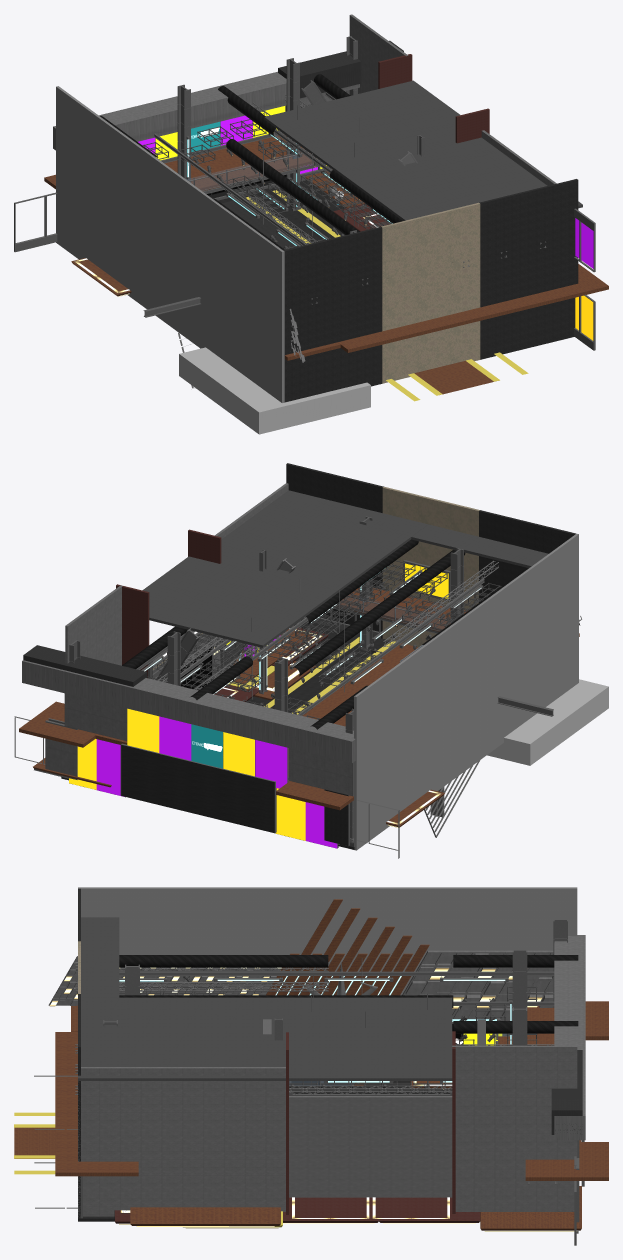
File: studio_v2.gltf
3 renders of one model, top to bottom at view 1: azimuth 30°, elevation 25°; view 2: azimuth 150°, elevation 25°; view 3: azimuth 270°, elevation 25°, orthographic. The views are drawn at different scales.
Parts seen in each view (by area): view 1: Mod_Floor_30x60_StaticMeshComponent0, Mod_Floor_30x82_StaticMeshComponent0, Mod_Floor_30x77_StaticMeshComponent0, Mod_Floor_30x81_StaticMeshComponent0, Mod_Floor_30x86_StaticMeshComponent0, Mod_Floor_30x87_StaticMeshComponent0, Mod_Floor_30x79_StaticMeshComponent0, Mod_Floor_30x78_StaticMeshComponent0, Mod_Floor_30x80_StaticMeshComponent0, Mod_Floor_30x85_StaticMeshComponent0, Mod_Floor_30x50_StaticMeshComponent0, Mod_Floor_30x35_StaticMeshComponent0 (+46 smaller); view 2: Mod_Wall_10ft27_6_StaticMeshComponent0, Mod_Floor_30x60_StaticMeshComponent0, Mod_Floor_30x62_StaticMeshComponent0, Mod_Floor_30x46_StaticMeshComponent0, Mod_Floor_30x8_StaticMeshComponent0, Mod_Floor_30x44_StaticMeshComponent0, Mod_Floor_30x35_StaticMeshComponent0, Mod_Floor_30x33_StaticMeshComponent0, Mod_Floor_30x36_StaticMeshComponent0, Mod_Floor_30x32_StaticMeshComponent0, Mod_Floor_30x45_StaticMeshComponent0, Mod_Floor_30x50_StaticMeshComponent0 (+68 smaller); view 3: Mod_Floor_30x38_StaticMeshComponent0, Mod_Floor_30x39_StaticMeshComponent0, Mod_Floor_30x73_StaticMeshComponent0, Mod_Floor_30x72_StaticMeshComponent0, Mod_Floor_30x74_StaticMeshComponent0, Mod_Floor_30x75_StaticMeshComponent0, Mod_Stairs_193_StaticMeshComponent0, Mod_Floor_30x76_StaticMeshComponent0, Mod_Floor_30x37_StaticMeshComponent0, Mod_Floor_30x42_StaticMeshComponent0, Mod_Floor_30x40_StaticMeshComponent0, Mod_Floor_30x41_StaticMeshComponent0 (+53 smaller).
Part boxes in pixels (box(x1,y1,x2,y2)): Mod_Floor_30x60_StaticMeshComponent0: box(179, 347, 370, 434); Mod_Floor_30x82_StaticMeshComponent0: box(283, 242, 317, 402); Mod_Floor_30x77_StaticMeshComponent0: box(447, 202, 480, 364); Mod_Floor_30x81_StaticMeshComponent0: box(316, 234, 349, 394); Mod_Floor_30x86_StaticMeshComponent0: box(512, 187, 545, 351); Mod_Floor_30x87_StaticMeshComponent0: box(479, 195, 512, 359); Mod_Floor_30x79_StaticMeshComponent0: box(381, 218, 414, 383); Mod_Floor_30x78_StaticMeshComponent0: box(414, 210, 447, 372); Mod_Floor_30x80_StaticMeshComponent0: box(348, 226, 382, 386); Mod_Floor_30x85_StaticMeshComponent0: box(544, 179, 578, 343); Mod_Floor_30x50_StaticMeshComponent0: box(263, 237, 284, 402); Mod_Floor_30x35_StaticMeshComponent0: box(131, 141, 151, 309); Mod_Wall_10ft27_6_StaticMeshComponent0: box(120, 743, 276, 833); Mod_Floor_30x60_StaticMeshComponent0: box(487, 679, 608, 765); Mod_Floor_30x62_StaticMeshComponent0: box(132, 678, 255, 736); Mod_Floor_30x46_StaticMeshComponent0: box(242, 704, 355, 763); Mod_Floor_30x8_StaticMeshComponent0: box(354, 683, 374, 850); Mod_Floor_30x44_StaticMeshComponent0: box(466, 601, 486, 768); Mod_Floor_30x35_StaticMeshComponent0: box(428, 628, 449, 790); Mod_Floor_30x33_StaticMeshComponent0: box(391, 656, 412, 816); Mod_Floor_30x36_StaticMeshComponent0: box(447, 615, 467, 782); Mod_Floor_30x32_StaticMeshComponent0: box(373, 669, 393, 836); Mod_Floor_30x45_StaticMeshComponent0: box(484, 588, 504, 755); Mod_Floor_30x50_StaticMeshComponent0: box(558, 533, 578, 695); Mod_Floor_30x38_StaticMeshComponent0: box(494, 1045, 535, 1211); Mod_Floor_30x39_StaticMeshComponent0: box(452, 1045, 493, 1211); Mod_Floor_30x73_StaticMeshComponent0: box(202, 1067, 244, 1207); Mod_Floor_30x72_StaticMeshComponent0: box(244, 1067, 285, 1211); Mod_Floor_30x74_StaticMeshComponent0: box(161, 1067, 202, 1207); Mod_Floor_30x75_StaticMeshComponent0: box(119, 1067, 160, 1210); Mod_Stairs_193_StaticMeshComponent0: box(266, 899, 429, 1085); Mod_Floor_30x76_StaticMeshComponent0: box(78, 1067, 119, 1216); Mod_Floor_30x37_StaticMeshComponent0: box(535, 1045, 577, 1211); Mod_Floor_30x42_StaticMeshComponent0: box(327, 1096, 369, 1197); Mod_Floor_30x40_StaticMeshComponent0: box(411, 1096, 452, 1197); Mod_Floor_30x41_StaticMeshComponent0: box(369, 1096, 410, 1197).
Bounding box in the file's own units: 24.76 × 14.15 × 28.59.
